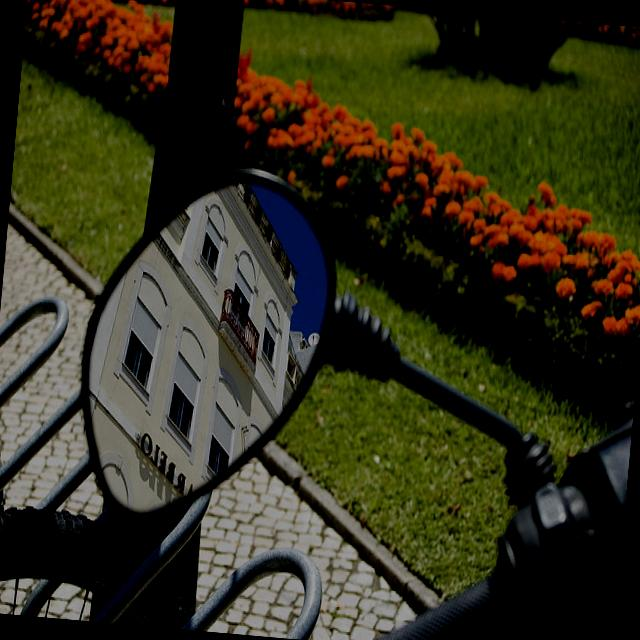Vehicle: (64, 157, 640, 640)
